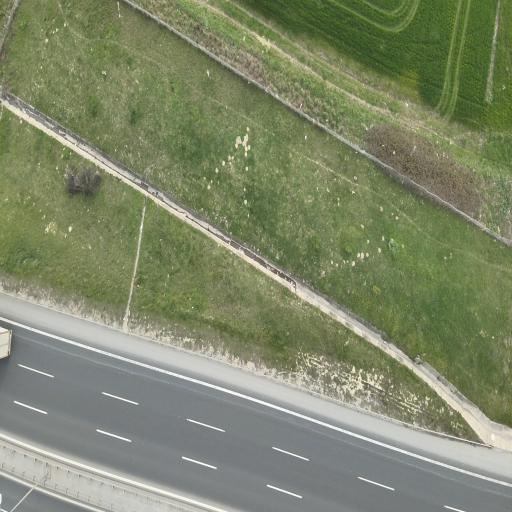truck: (0, 327, 11, 358)
